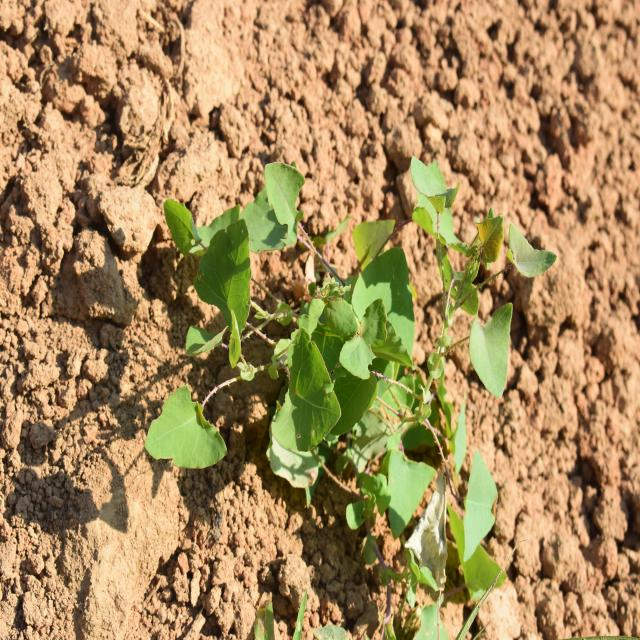Asiatic_Smartweed: (140, 150, 403, 482), (413, 163, 554, 397)
